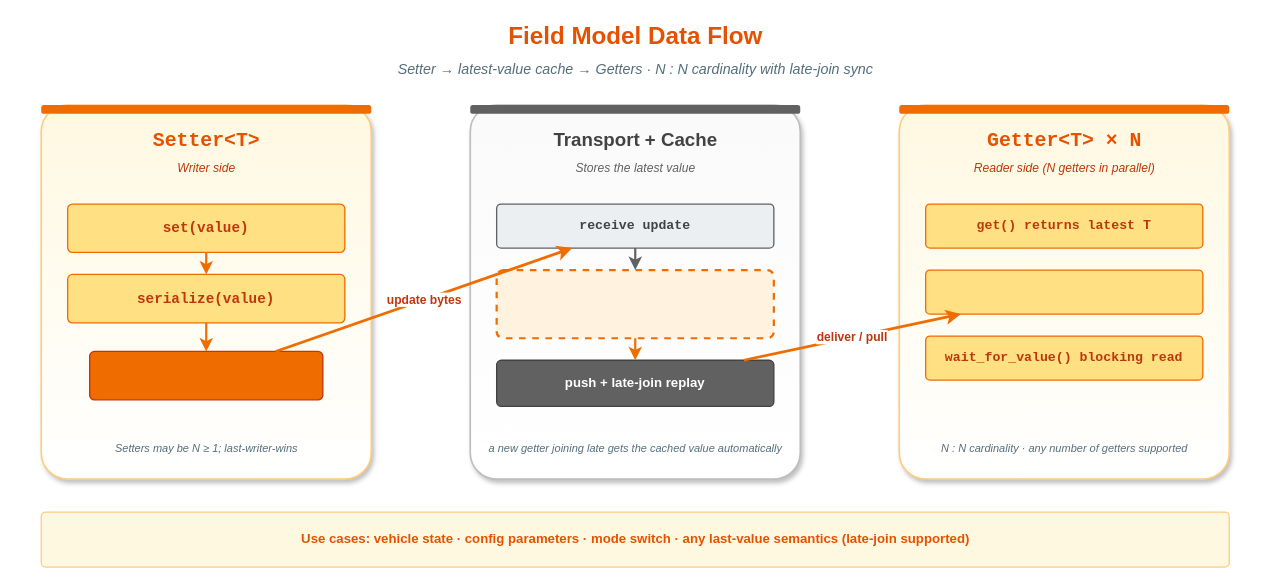
Image size: 1269x586. Some labels were removed from this diagram. Here are the shapes that lost their labels. From the top down, the centre of each, then its label:
At point (634, 303): "latest-value cache keyed by topic · overwritten on update".
At point (1063, 291): "listen(cb) on every update".
At point (205, 375): "publish update".
